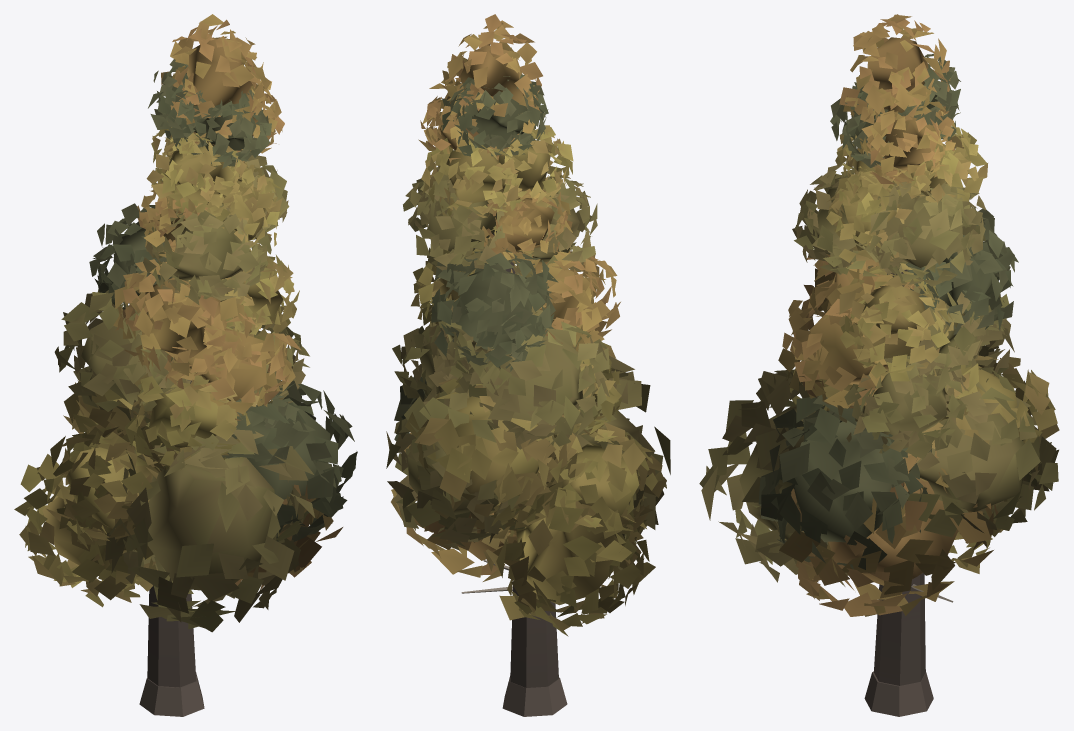
Rendered from lenga_d.glb.
3 views of the same model, side by side, from view 1: azimuth 30°, elevation 25°; view 2: azimuth 150°, elevation 25°; view 3: azimuth 270°, elevation 25° (orthographic). The views are drawn at different scales.
Parts seen in each view (by area): view 1: LengaDHojas, LengaDCopa, LengaD; view 2: LengaDHojas, LengaDCopa, LengaD; view 3: LengaDHojas, LengaDCopa, LengaD.
Part boxes in pixels (bbox=[...]): LengaDHojas: bbox=[14, 14, 357, 632]; LengaDCopa: bbox=[42, 37, 330, 590]; LengaD: bbox=[139, 380, 204, 716]; LengaDHojas: bbox=[386, 14, 670, 636]; LengaDCopa: bbox=[407, 45, 639, 605]; LengaD: bbox=[461, 231, 567, 716]; LengaDHojas: bbox=[699, 14, 1059, 616]; LengaDCopa: bbox=[739, 37, 1024, 585]; LengaD: bbox=[864, 268, 953, 716].
Size of what is drawn, in the model's own units: 3.05 by 7.04 by 3.25.
